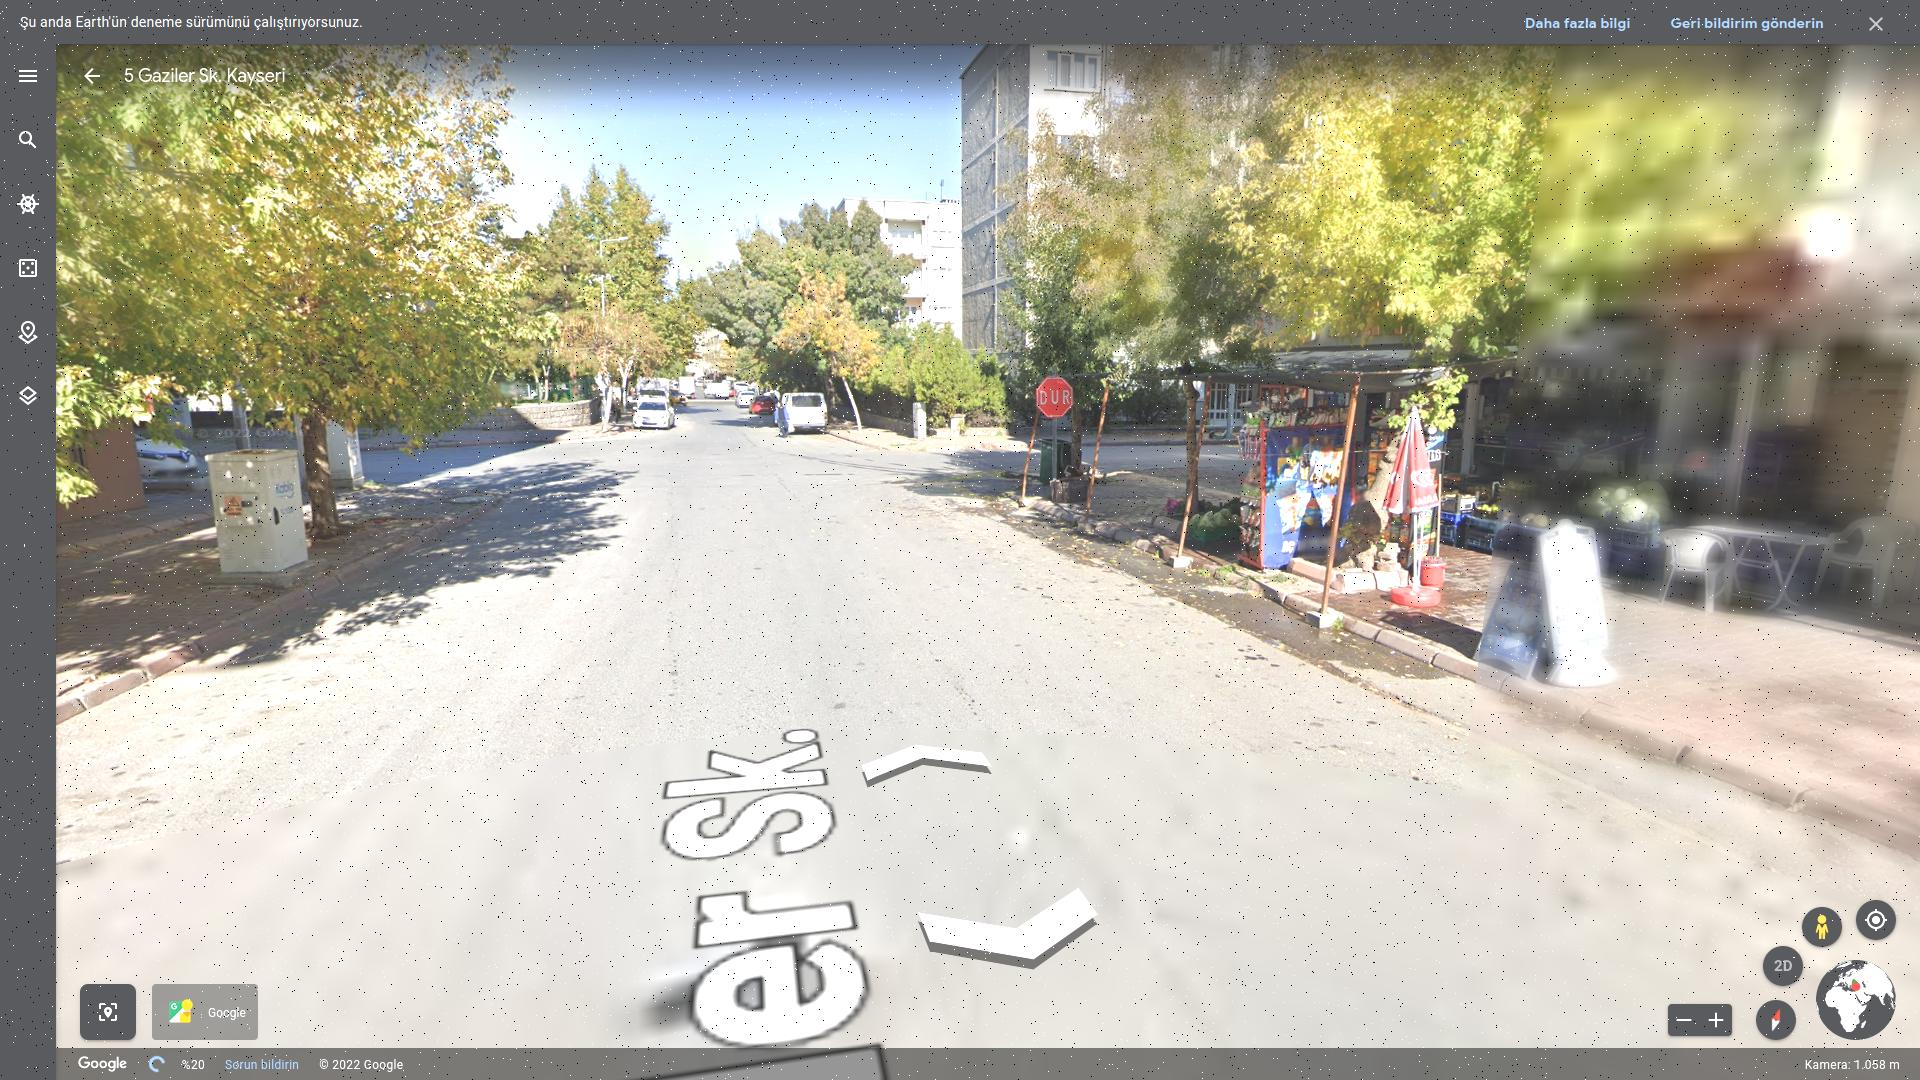stop: (1036, 376, 1075, 421)
